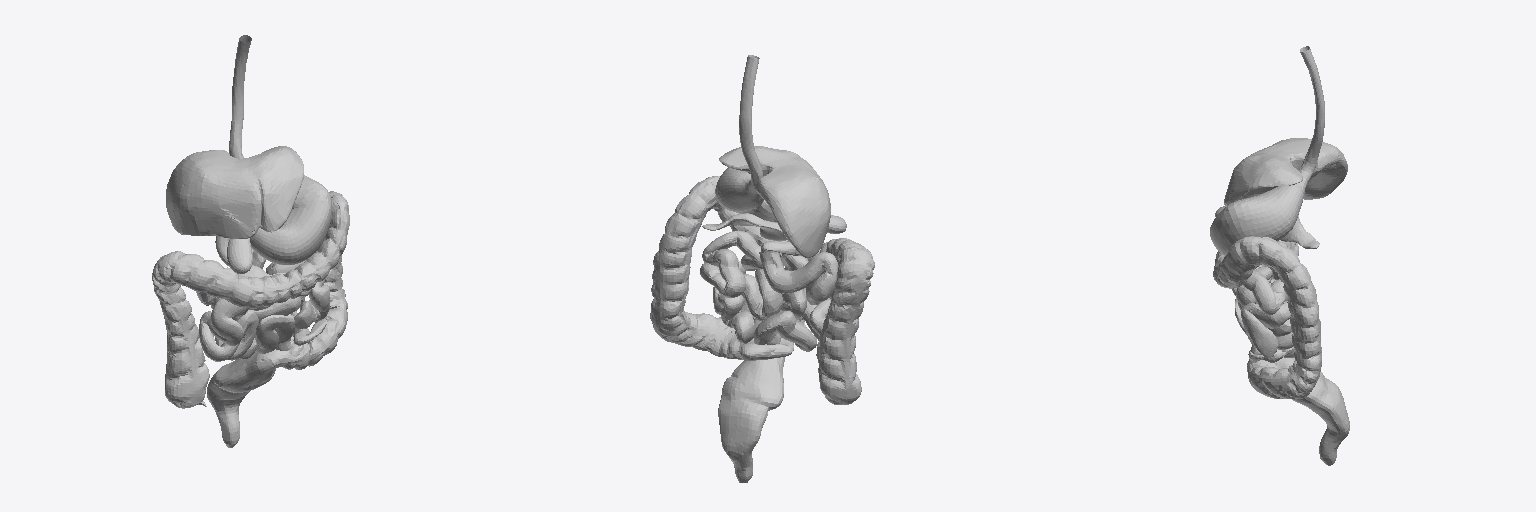
The model's file is digestive-color.obj.
The picture shows the model from 3 angles: view 1: azimuth 30°, elevation 25°; view 2: azimuth 150°, elevation 25°; view 3: azimuth 270°, elevation 25°; orthographic projection.
Visible parts, largest first — view 1: Group2, Group4, Group6, Group1, Group3; view 2: Group2, Group6, Group4, Group1, Group5; view 3: Group2, Group1, Group4, Group6, Group5.
Boxes of the visible parts, box(x1,y1,x2,y2) form: Group2: box(152, 191, 349, 447); Group4: box(166, 146, 303, 238); Group6: box(196, 257, 329, 361); Group1: box(215, 35, 331, 266); Group3: box(227, 238, 252, 273); Group2: box(650, 176, 874, 482); Group6: box(700, 230, 838, 360); Group4: box(719, 146, 830, 257); Group1: box(715, 55, 801, 255); Group5: box(702, 213, 787, 240); Group2: box(1213, 215, 1349, 465); Group1: box(1210, 46, 1324, 255); Group4: box(1224, 138, 1347, 205); Group6: box(1232, 240, 1294, 362); Group5: box(1277, 218, 1319, 248).
Bounding box in the file's own units: 544 × 1055 × 320.